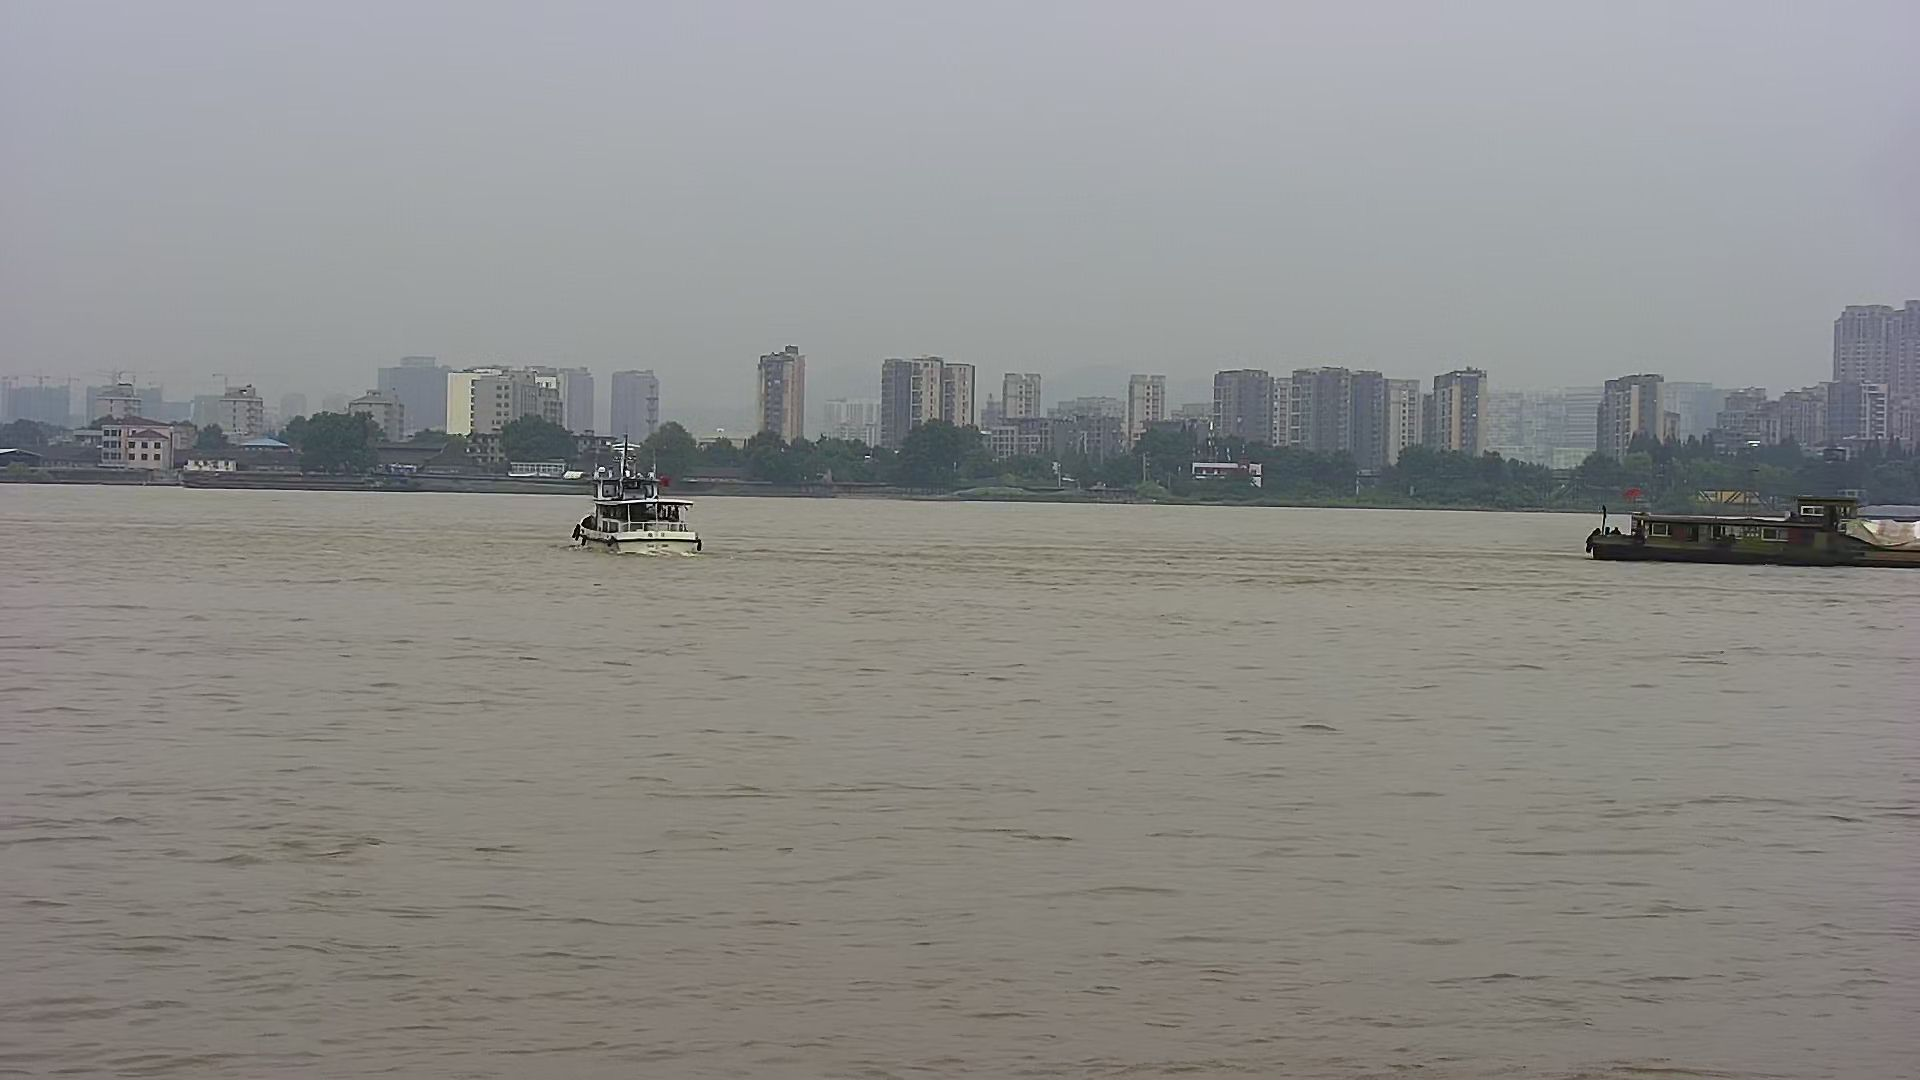ship: (1536, 484, 1920, 574), (555, 458, 721, 560)
